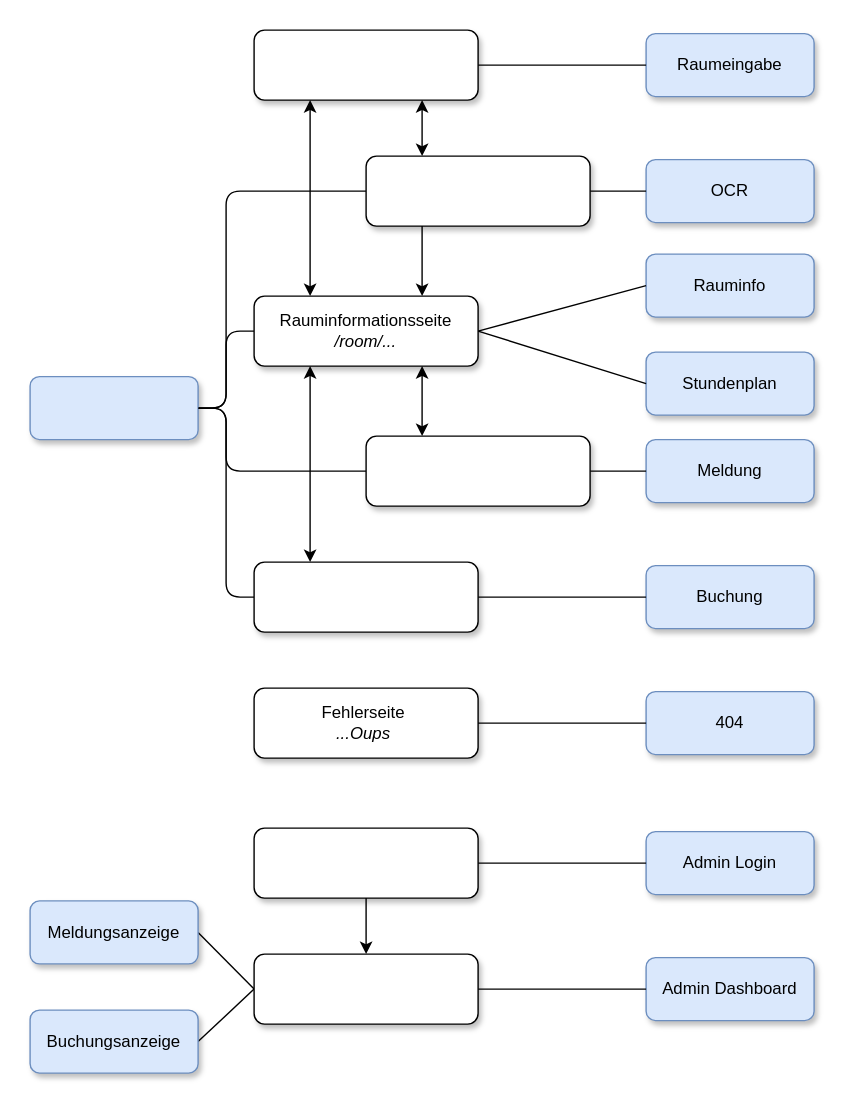
The diagram is 847 pixels wide and 1107 high, and some of its shapes have lost their labels. The centre of each missing label's shape, as x and y in pixels:
"Admin-Loginseite /admin" belongs at point 366,864.
"Administratorübersicht /admin/dashboard" belongs at point 366,990.
"Buchungsseite /room/.../book" belongs at point 366,598.
"Link" belongs at point 114,409.
"Meldungsseite /room/... /report" belongs at point 478,472.
"OCR-Seite /ocr" belongs at point 478,192.
"Startseite /" belongs at point 366,66.
